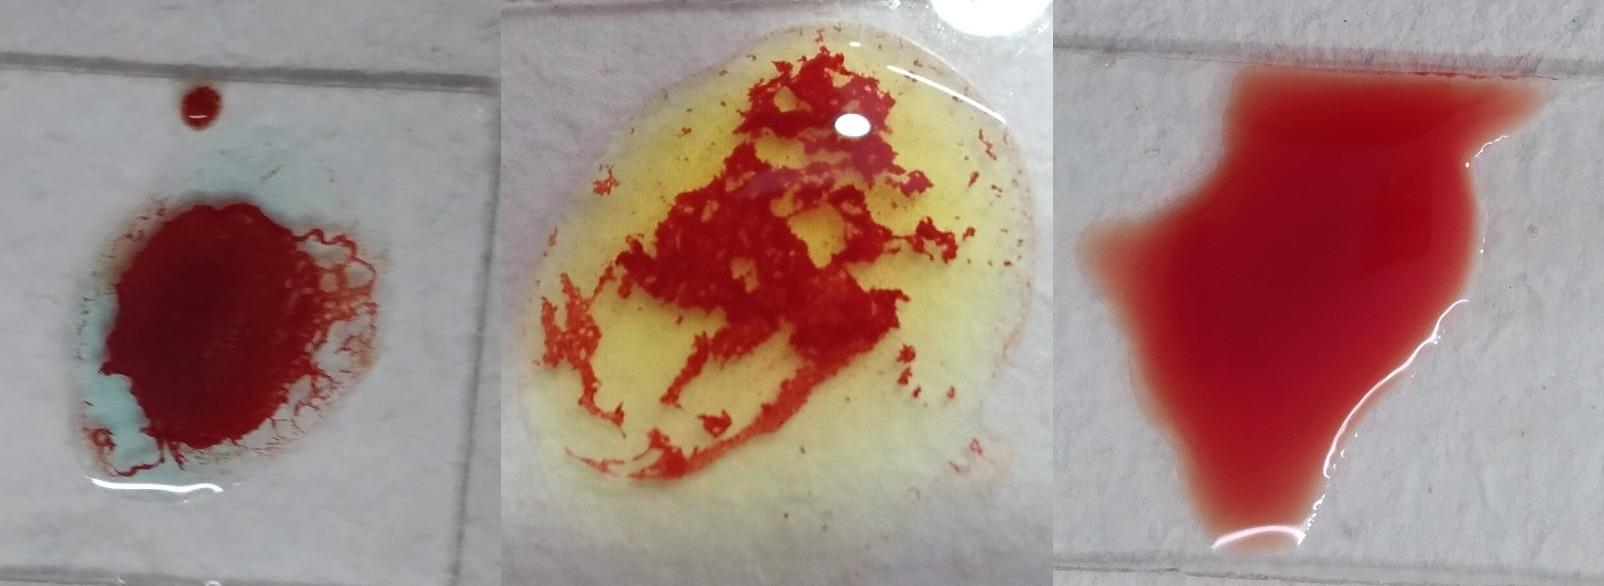A: (69, 138, 372, 505)
B: (531, 30, 1026, 533)
